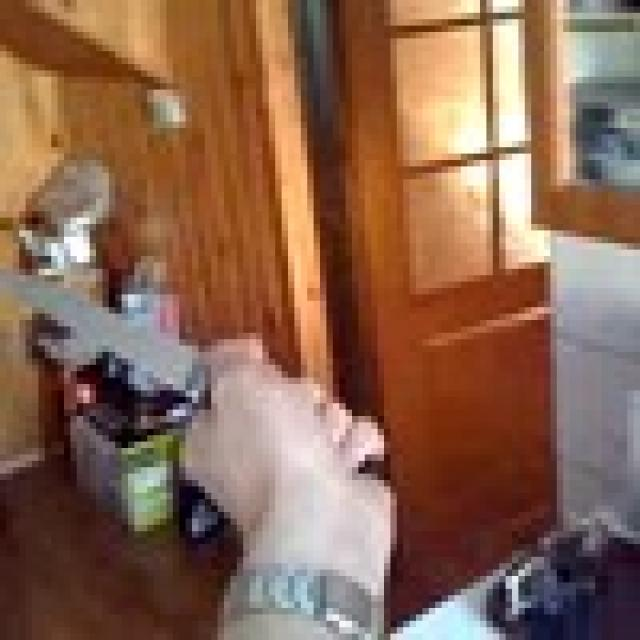Weapons: (3, 255, 227, 421)
